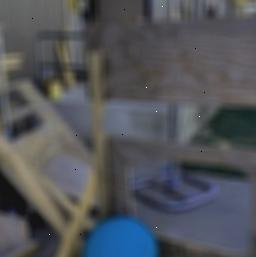algae: (82, 212, 160, 257)
